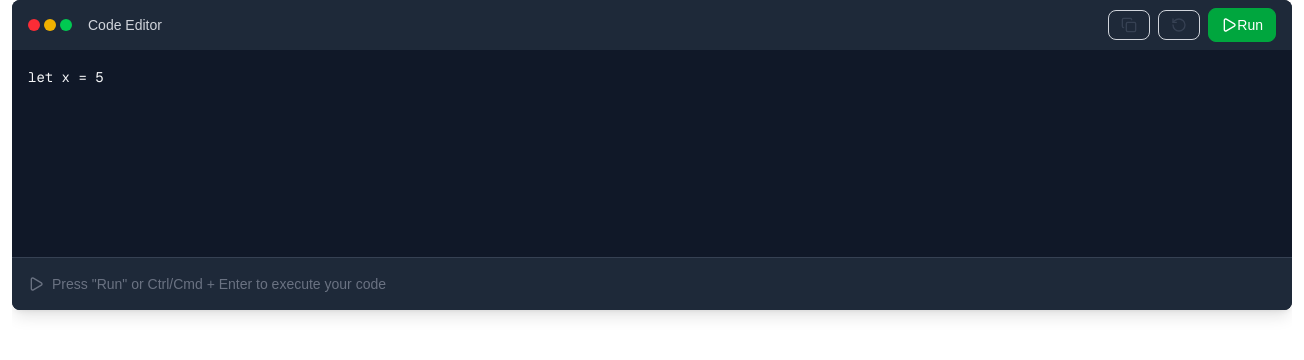
Test case: CodeEditor Component › shows success message when code executes without output
Click the button "Run" at (1242, 25), box top-left (1208, 8), bottom-right (1276, 42)
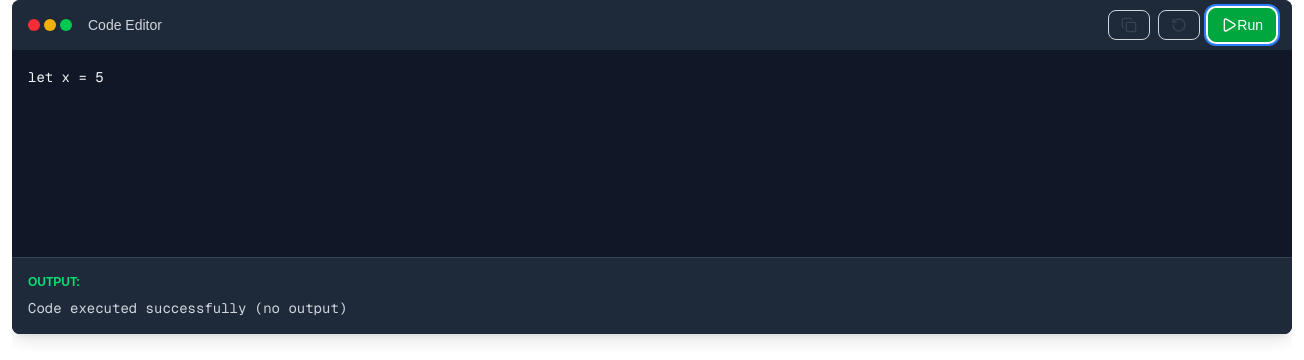
Check: the text "Code executed successfully (no output)" is shown, box top-left (28, 299), bottom-right (347, 317)
